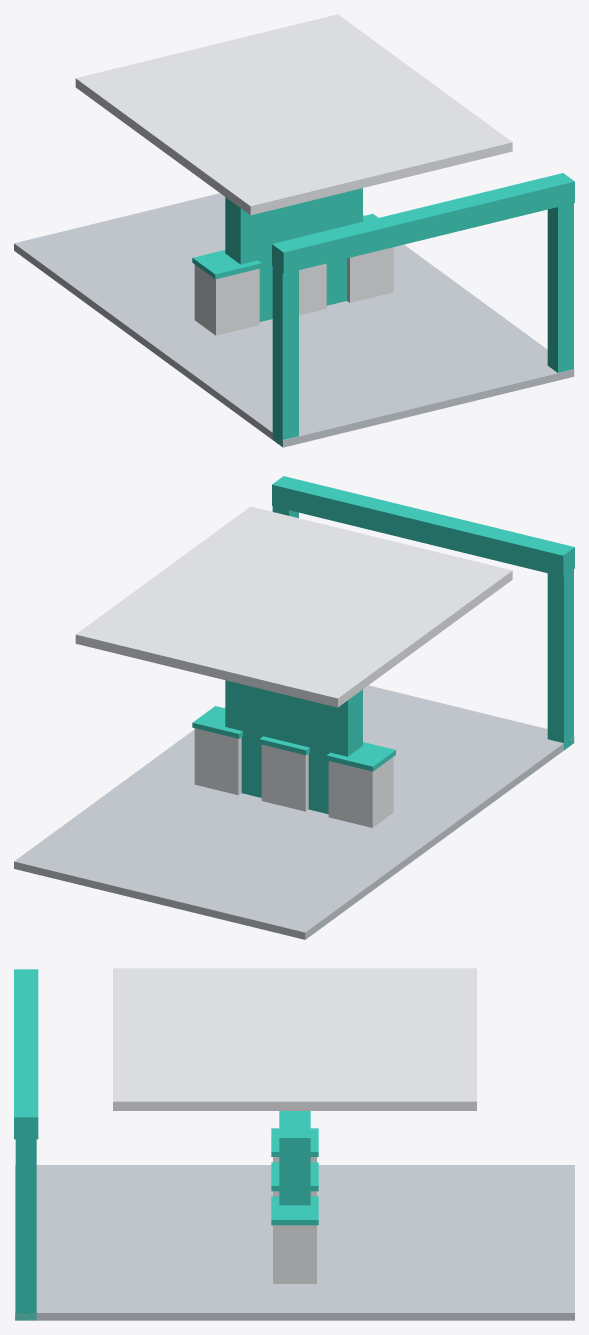
3 renders of one model, top to bottom at view 1: azimuth 30°, elevation 25°; view 2: azimuth 150°, elevation 25°; view 3: azimuth 270°, elevation 25°, orthographic. The views are drawn at different scales.
Parts seen in each view (by area): view 1: Exhibition Booth Concept; view 2: Exhibition Booth Concept; view 3: Exhibition Booth Concept.
Part boxes in pixels (x1=…): Exhibition Booth Concept: x1=14, y1=14, x2=574, y2=447; Exhibition Booth Concept: x1=14, y1=476, x2=574, y2=939; Exhibition Booth Concept: x1=14, y1=968, x2=574, y2=1320.
Size of the model in its own units: 5 by 3.34 by 8.01.
